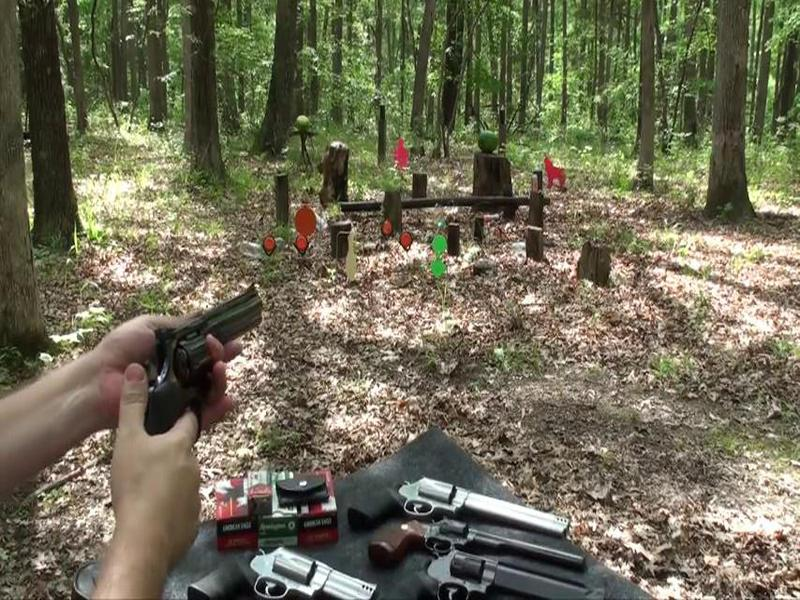Revolver: (109, 273, 287, 474)
